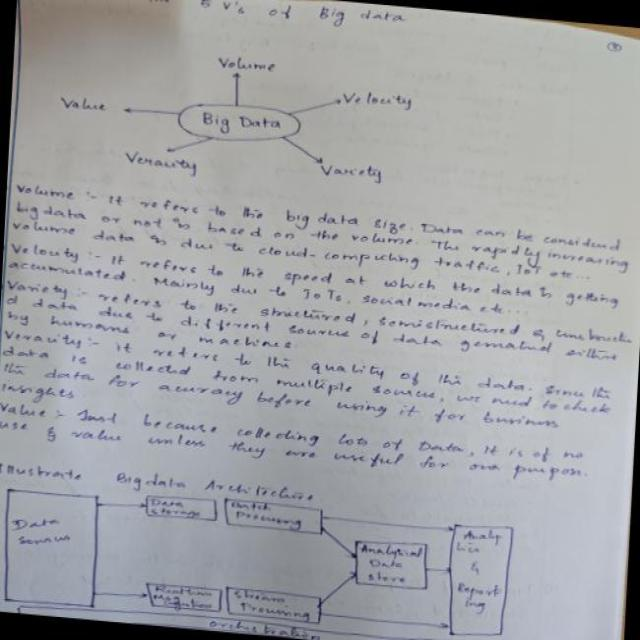Figure Detection - v3 Dataset Version2: (0, 468, 543, 640)
